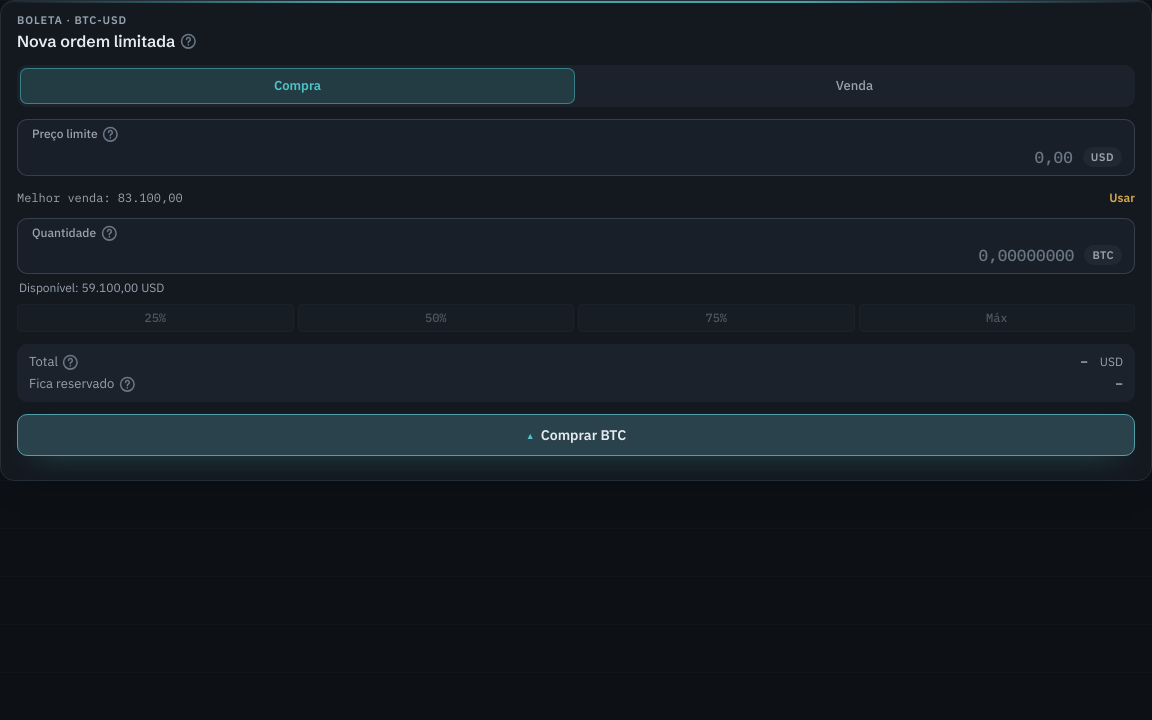
Test: Order ticket › Should review in a modal dialog that takes focus and closes on Escape without sending
This screenshot has width=1152, height=720.
Type "83000,00" into the field labelled "Preço limite".
click(552, 157); type("83000,00")  # box [32,145,1073,169]
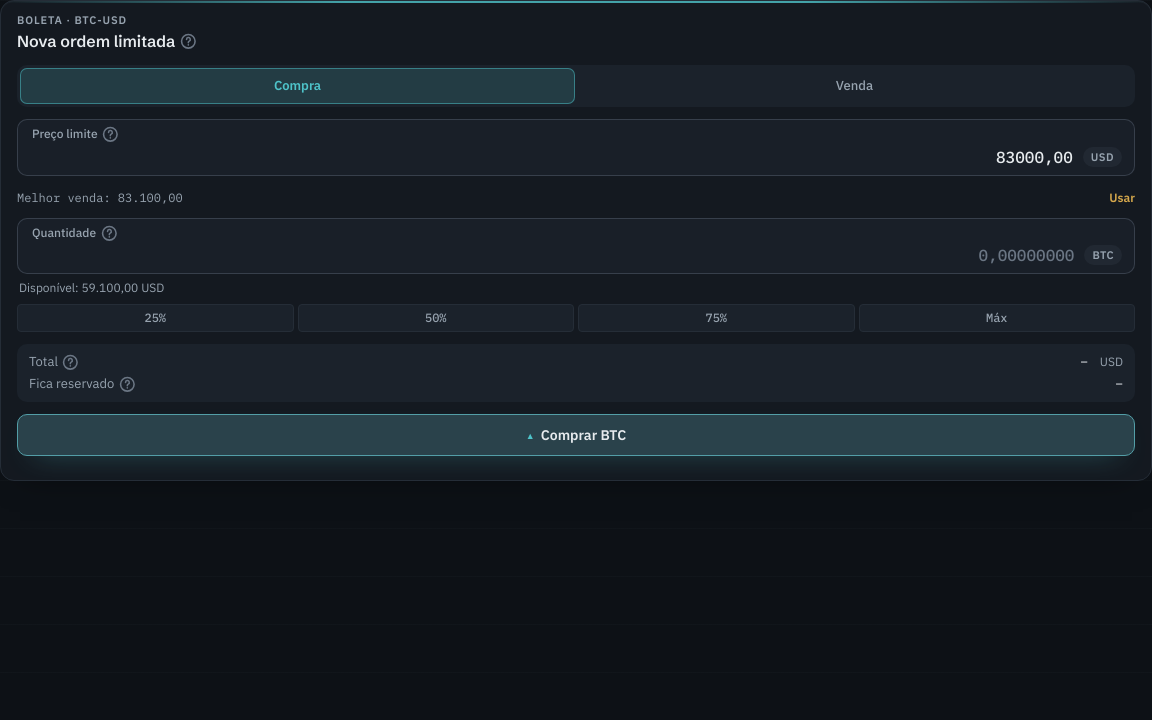
Type "0,5" into the field labelled "Quantidade".
click(553, 255); type("0,5")  # box [32,243,1074,267]
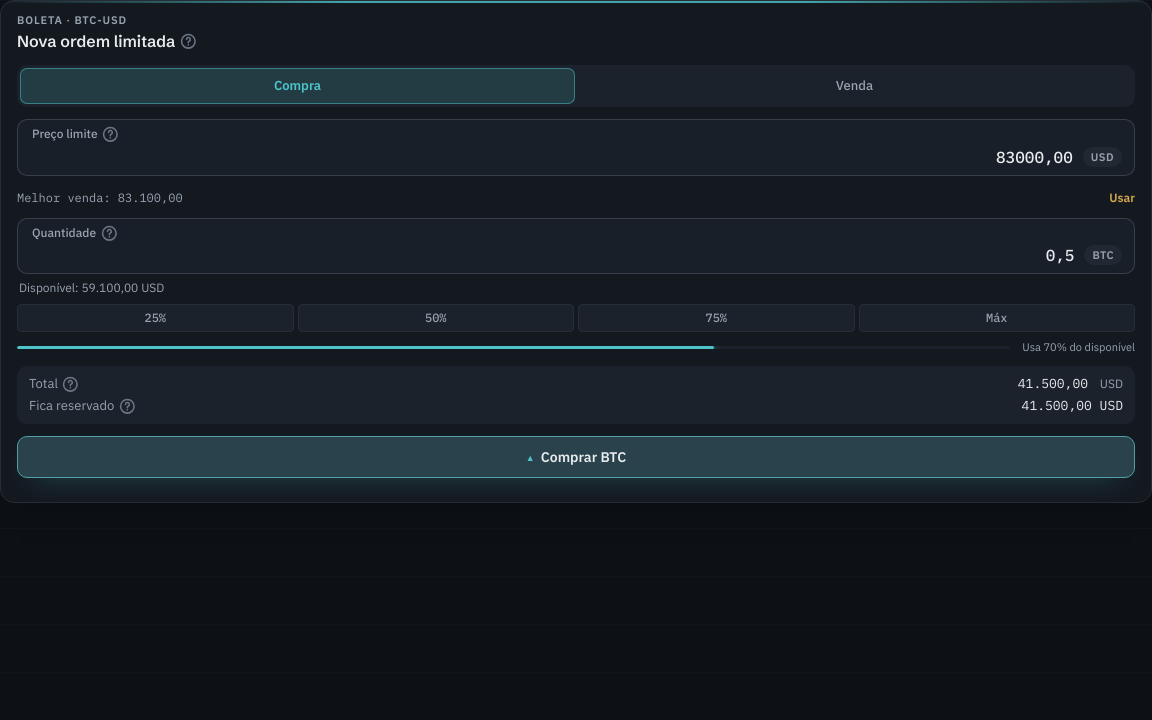
Click the button "▲ Comprar BTC".
click(576, 457)  # box [17,436,1135,478]
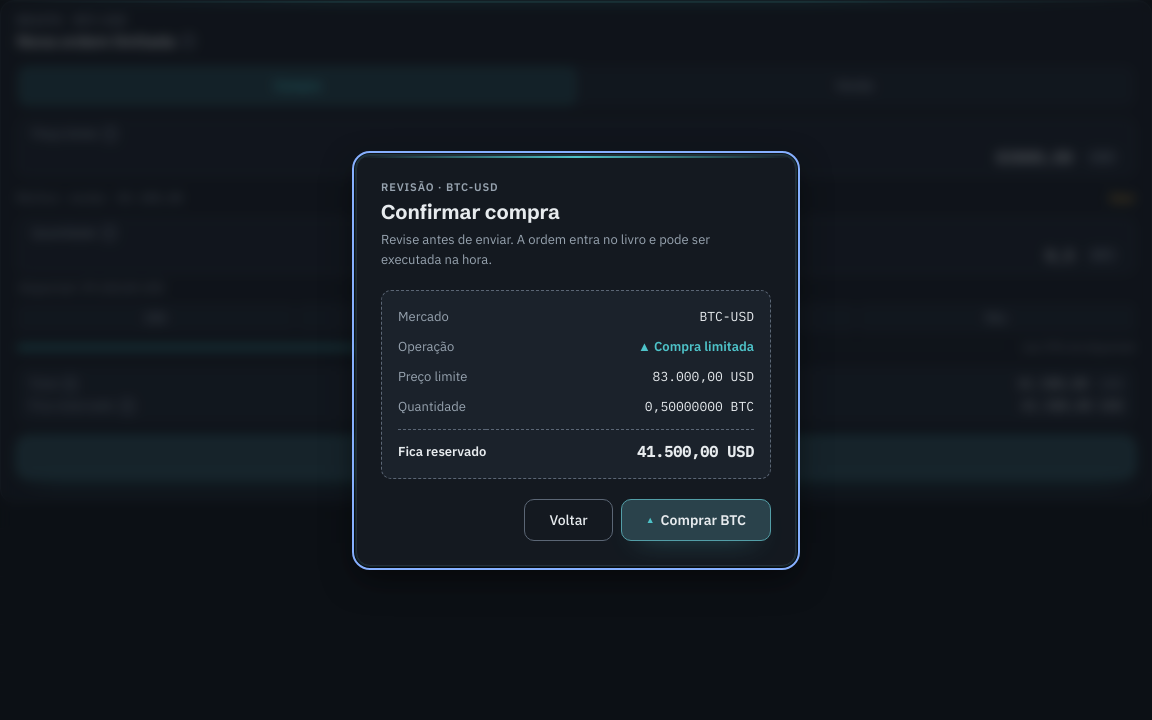
Check: the text "▲ Compra limitada" is shown, box [638,338,754,354]
Check: the text "83.000,00 USD" is shown, box [653,368,754,384]
Check: the text "41.500,00 USD" is shown, box [486,428,754,462]
Press Escape in the dialog "Confirmar compra", box [356,154,796,566]
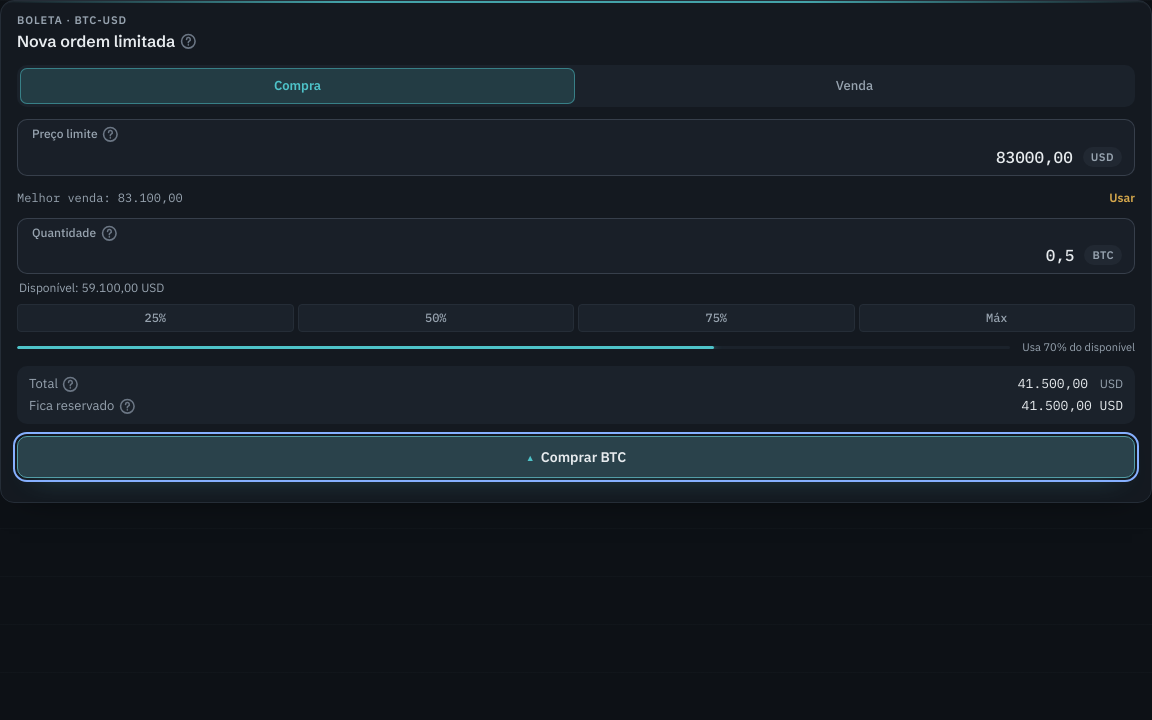
Check: the dialog is gone
